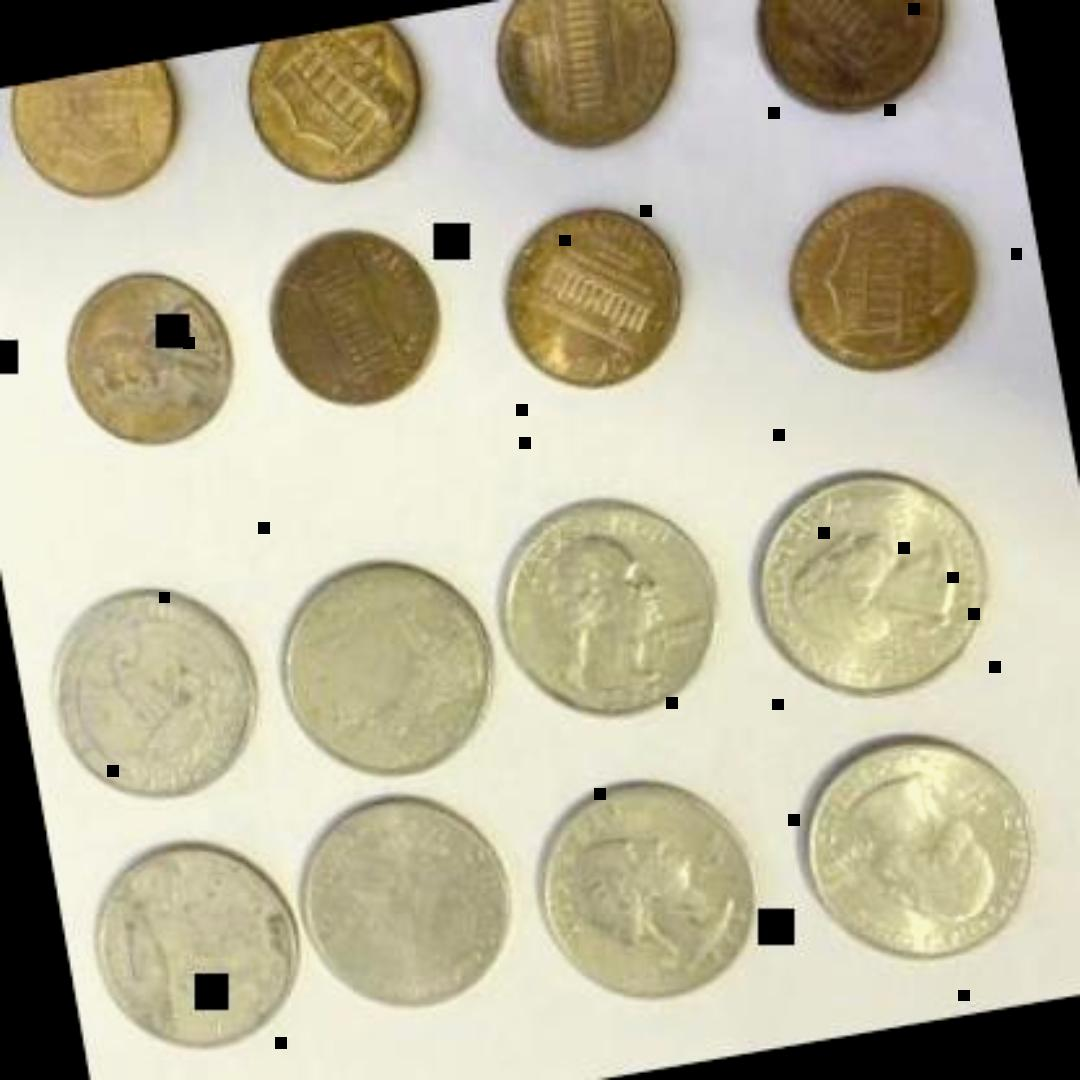Penny: (764, 172, 992, 392), (247, 216, 457, 426), (484, 194, 686, 404), (44, 254, 244, 460), (222, 18, 428, 198), (476, 0, 688, 168), (733, 0, 964, 132), (0, 57, 192, 215)
Quarter: (726, 447, 1008, 727), (776, 713, 1052, 983), (472, 476, 736, 740), (515, 757, 764, 1019), (274, 776, 526, 1024), (254, 542, 503, 791), (27, 569, 271, 813), (74, 828, 310, 1068)
